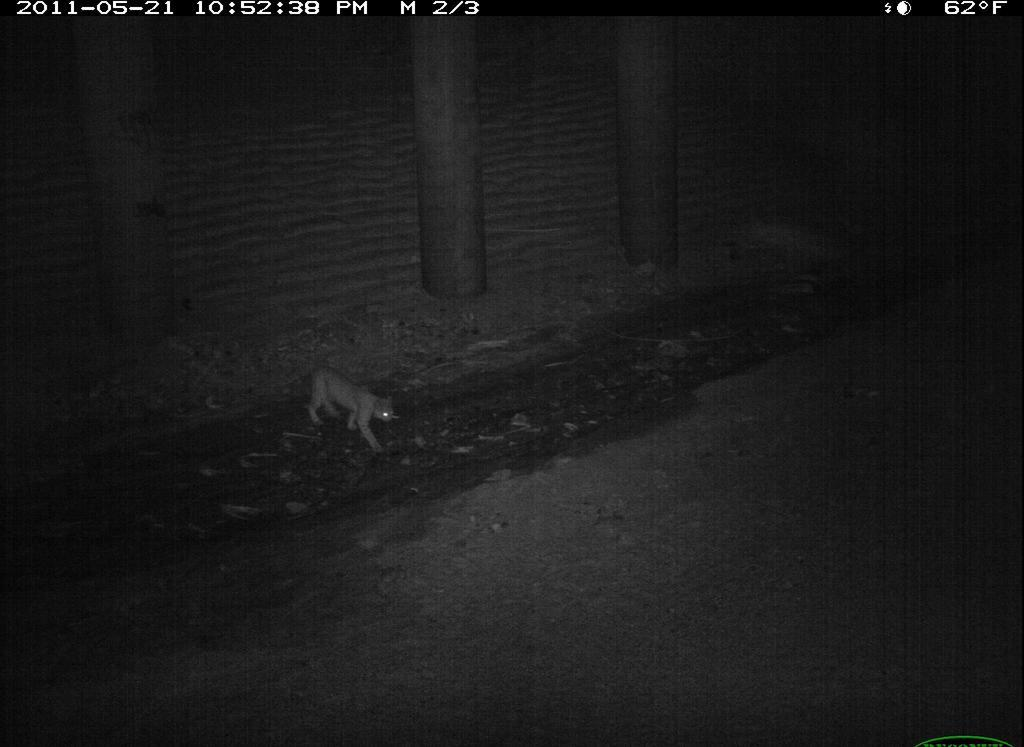bobcat: (606, 722, 796, 747)
